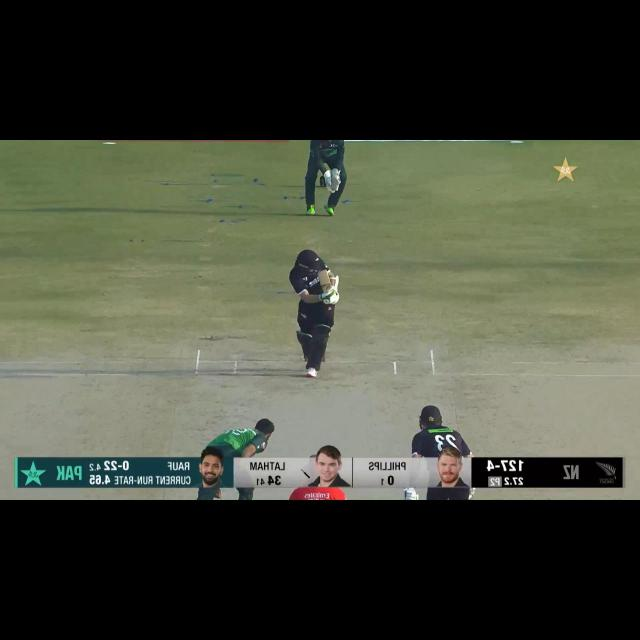bat: (317, 270, 332, 293)
toe: (317, 269, 329, 280)
